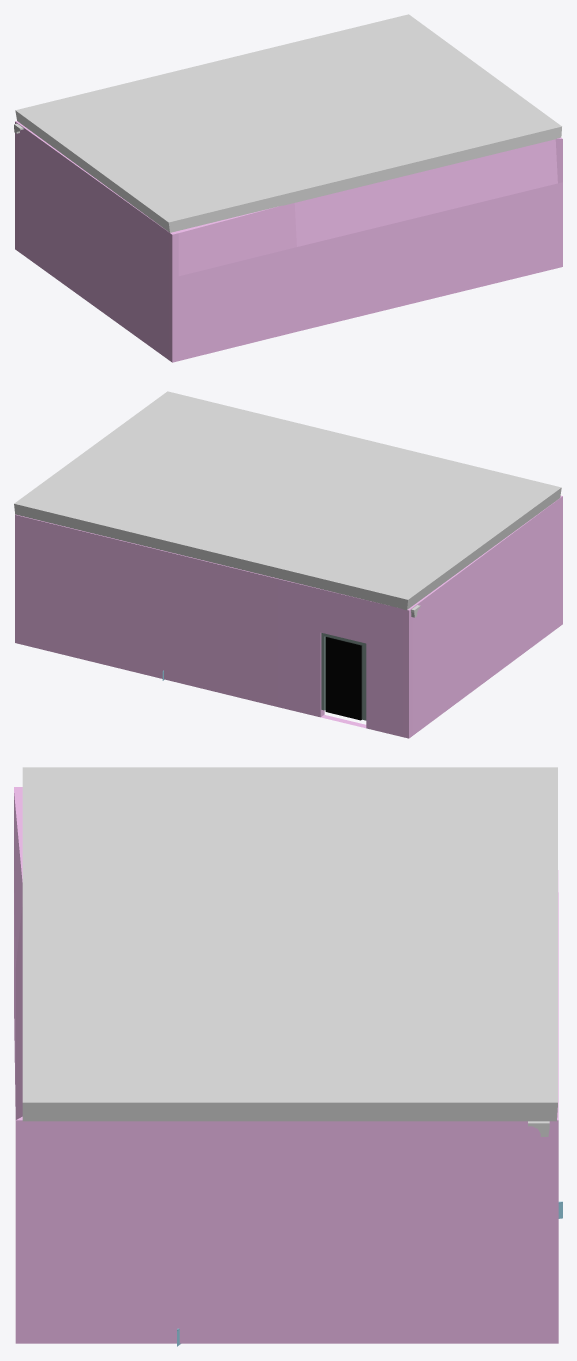
The model's file is keyboard_buildin_room.glb.
3 views of the same model, one above another, from view 1: azimuth 30°, elevation 25°; view 2: azimuth 150°, elevation 25°; view 3: azimuth 270°, elevation 25° (orthographic). The views are drawn at different scales.
Parts seen in each view (by area): view 1: Cube.005; view 2: Cube.005; view 3: Cube.005.
Part boxes in pixels (x1,y1,x2,y2): Cube.005: (14, 14, 562, 362); Cube.005: (14, 391, 562, 738); Cube.005: (14, 767, 562, 1346).
Size of the model in its own units: 18.59 by 6.22 by 12.7.
